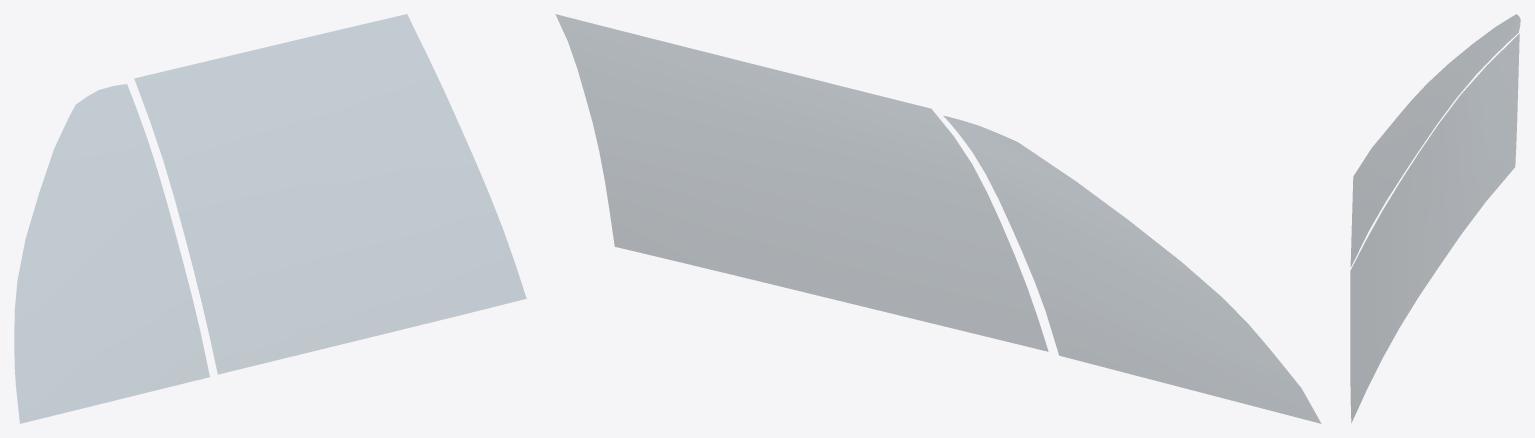
3 views of the same model, side by side, from view 1: azimuth 30°, elevation 25°; view 2: azimuth 150°, elevation 25°; view 3: azimuth 270°, elevation 25° (orthographic). The views are drawn at different scales.
Visible parts, largest first — view 1: SM_FordCrown02_Door_RR_Glass_Ext1; view 2: SM_FordCrown02_Door_RR_Glass_Ext1; view 3: SM_FordCrown02_Door_RR_Glass_Ext1.
Part boxes in pixels (box(x1,y1,x2,y2)): SM_FordCrown02_Door_RR_Glass_Ext1: box(14, 14, 526, 423); SM_FordCrown02_Door_RR_Glass_Ext1: box(555, 14, 1321, 423); SM_FordCrown02_Door_RR_Glass_Ext1: box(1350, 14, 1520, 422).
Bounding box in the file's own units: 0.8099 × 0.3632 × 0.2335.
